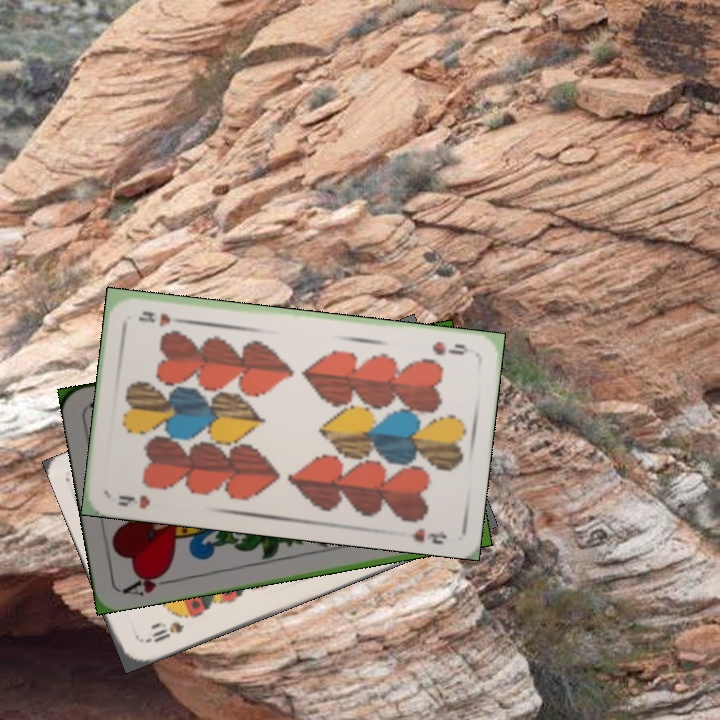H9: (428, 337, 471, 358), (113, 491, 153, 511)
HA: (118, 566, 177, 598)
S10: (138, 617, 187, 646)
